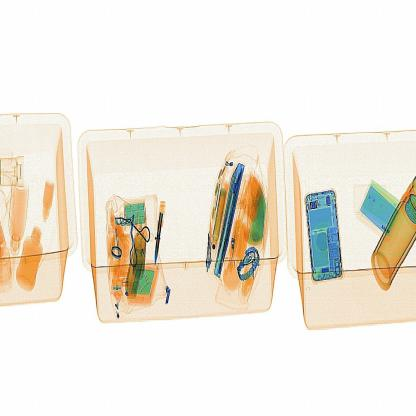gun: (147, 195, 177, 272)
